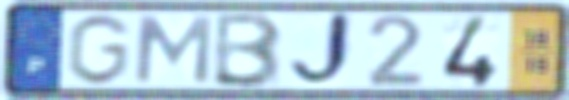2: (362, 12, 427, 89)
4: (439, 12, 501, 89)
B: (209, 10, 285, 90)
G: (63, 12, 135, 88)
J: (286, 9, 356, 92)
M: (131, 14, 215, 86)
